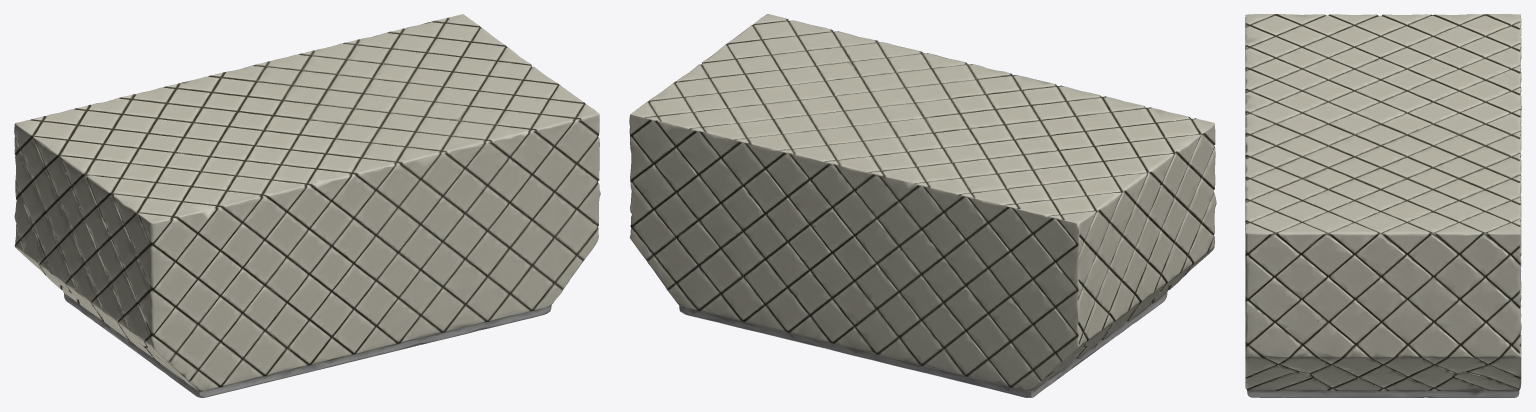
3 views of the same model, side by side, from view 1: azimuth 30°, elevation 25°; view 2: azimuth 150°, elevation 25°; view 3: azimuth 270°, elevation 25° (orthographic).
Visible parts, largest first — view 1: tripo_node_8a580c1e-c4f9-4f49-847f-4478053b277b; view 2: tripo_node_8a580c1e-c4f9-4f49-847f-4478053b277b; view 3: tripo_node_8a580c1e-c4f9-4f49-847f-4478053b277b.
Part boxes in pixels (box(x1,y1,x2,y2)): tripo_node_8a580c1e-c4f9-4f49-847f-4478053b277b: box(14, 14, 600, 397); tripo_node_8a580c1e-c4f9-4f49-847f-4478053b277b: box(629, 14, 1216, 397); tripo_node_8a580c1e-c4f9-4f49-847f-4478053b277b: box(1245, 14, 1521, 397).
Bounding box in the file's own units: 1 × 0.4019 × 0.5317.
1 material, 1 textured.
